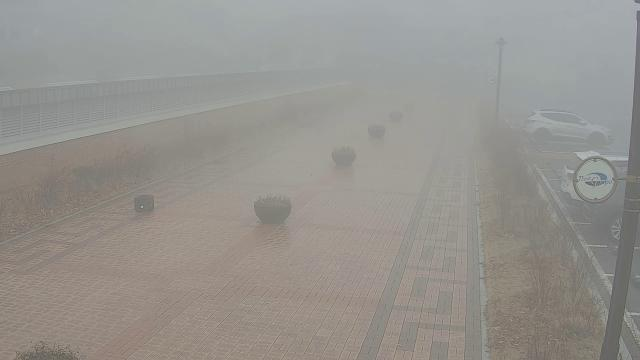bag: (134, 193, 156, 215)
